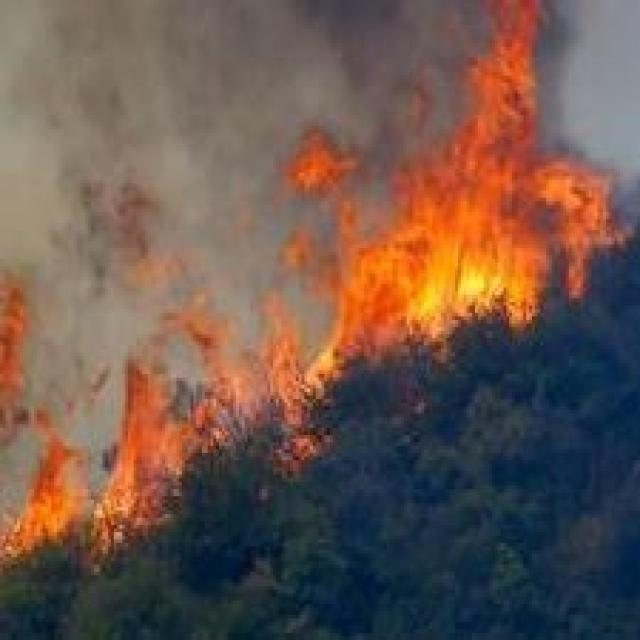Fire: (328, 26, 612, 400), (92, 360, 186, 546), (216, 304, 315, 469), (15, 428, 89, 570), (298, 118, 355, 222), (2, 269, 22, 441)
Smoke: (84, 0, 368, 325)
